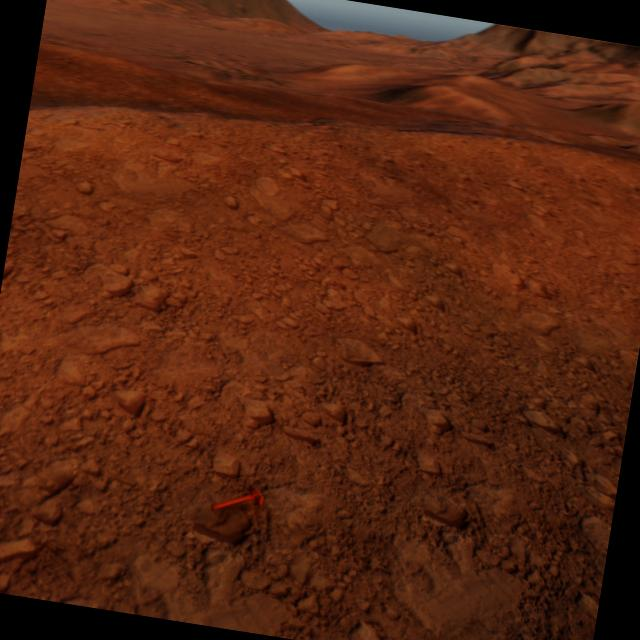newhammer: (210, 480, 266, 519)
